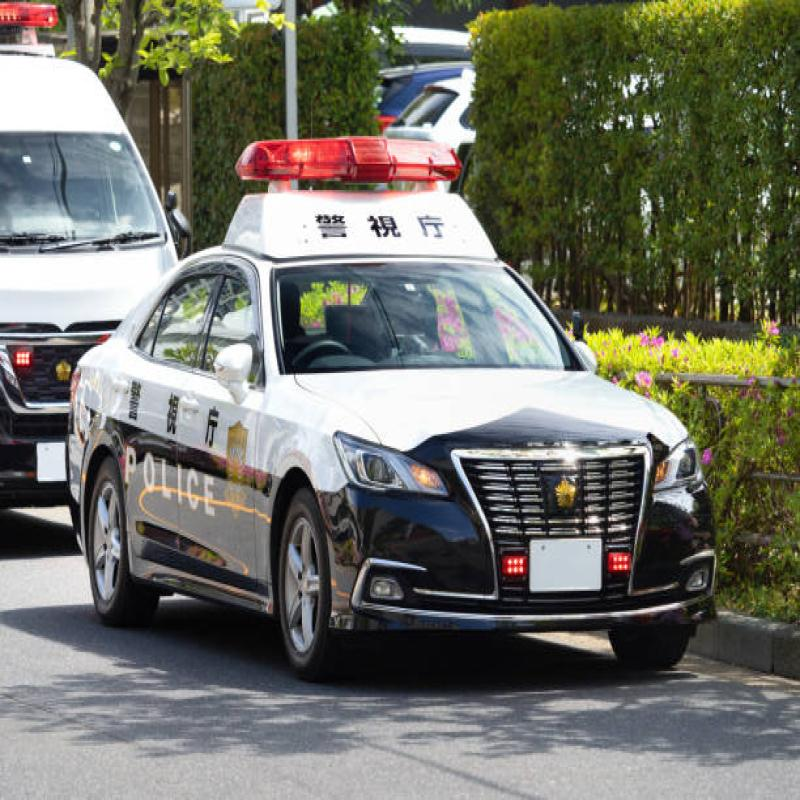AmbulanceSiren: (231, 100, 477, 217)
car: (66, 243, 723, 709)
